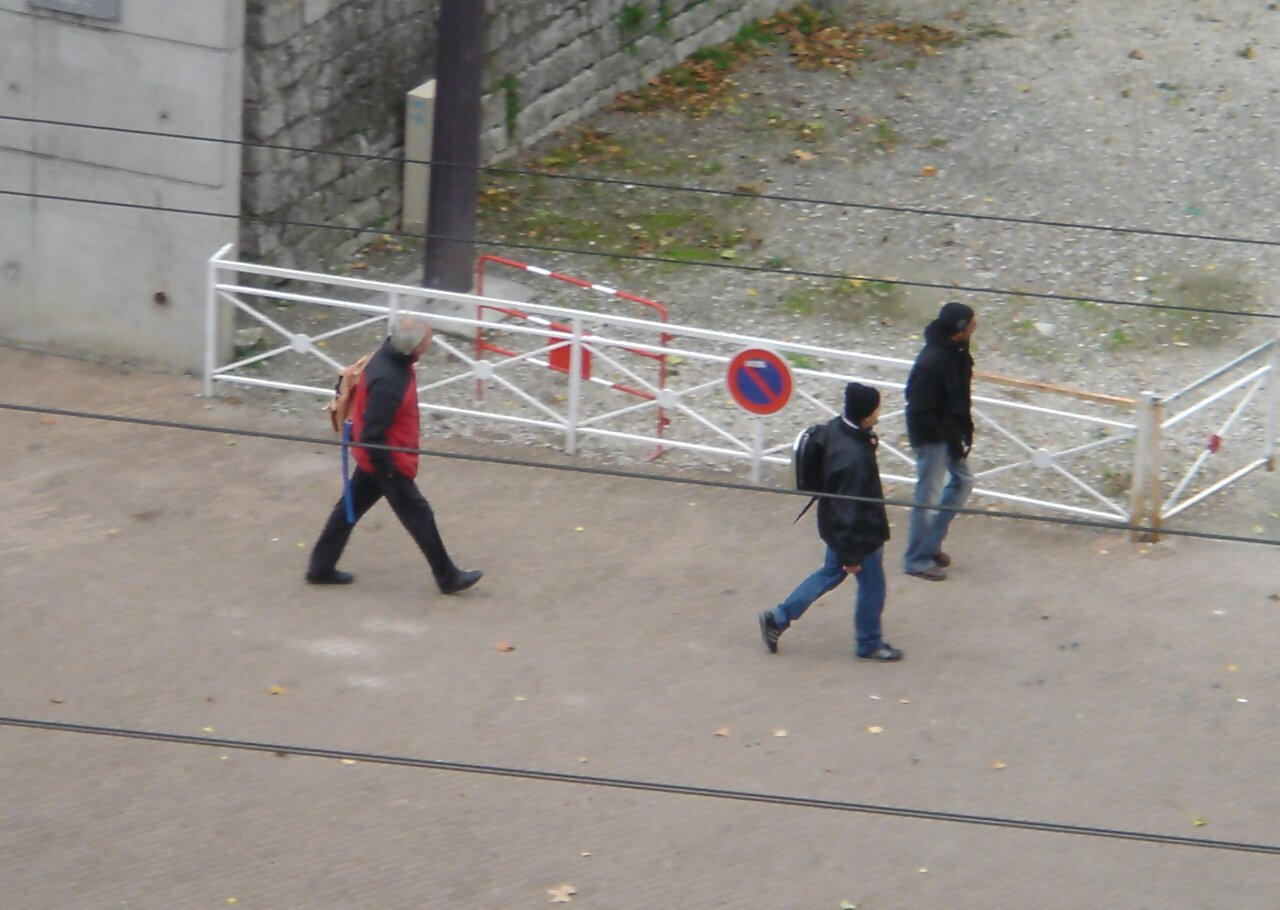person: (300, 308, 483, 611), (758, 375, 925, 673), (899, 297, 991, 589)
